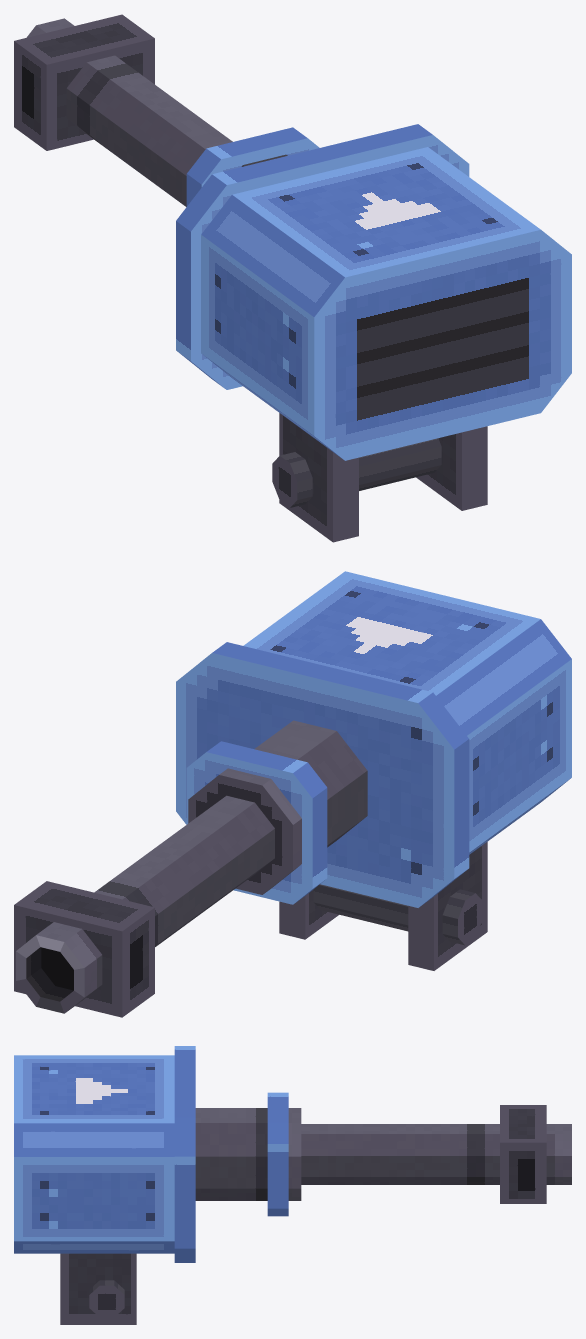
Rendered from pound_cannon.glb.
The picture shows the model from 3 angles, top to bottom: view 1: azimuth 30°, elevation 25°; view 2: azimuth 150°, elevation 25°; view 3: azimuth 270°, elevation 25°; orthographic projection. The views are drawn at different scales.
Parts seen in each view (by area): view 1: pound_cannon_head; view 2: pound_cannon_head; view 3: pound_cannon_head.
Boxes of the visible parts, x1=… form: pound_cannon_head: x1=14, y1=14, x2=571, y2=542; pound_cannon_head: x1=14, y1=571, x2=571, y2=1017; pound_cannon_head: x1=14, y1=1046, x2=571, y2=1324.
Size of the model in its own units: 0.54 by 0.565 by 1.32.
Materials: 1 (1 with a texture image).
